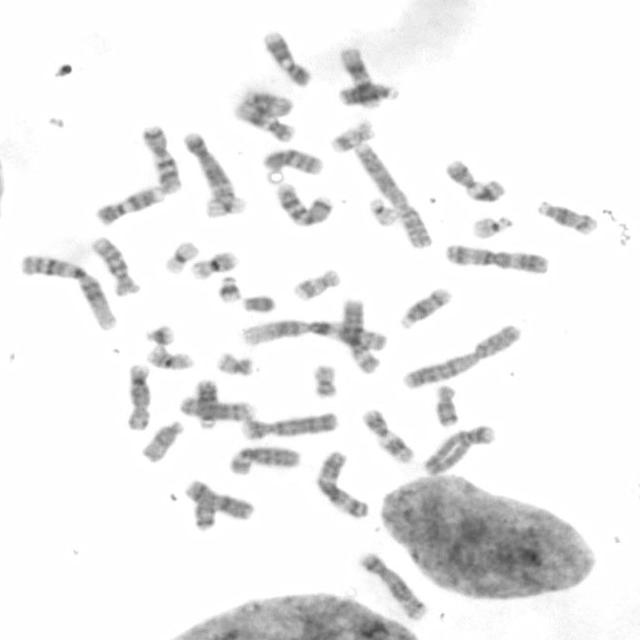A1: (17, 250, 120, 330), (236, 316, 390, 352)
A2: (349, 138, 434, 252), (397, 319, 525, 392)
A3: (311, 447, 371, 520), (442, 240, 550, 276)
B4: (419, 422, 497, 477), (239, 408, 340, 442)
B5: (178, 126, 244, 212), (356, 550, 429, 620)
C10: (88, 233, 142, 297), (258, 144, 326, 177)
C11: (357, 405, 417, 465), (440, 155, 508, 205)
C12: (334, 42, 381, 110), (230, 97, 297, 144)
C6: (336, 294, 384, 376), (225, 442, 303, 476)
C7: (138, 122, 182, 195), (272, 179, 335, 228)
C8: (176, 392, 257, 423), (124, 361, 152, 431)
C9: (259, 26, 314, 89), (92, 181, 167, 227)
D13: (334, 80, 400, 108), (191, 375, 220, 431)
D14: (395, 284, 454, 330), (532, 197, 599, 236)
D15: (232, 85, 296, 121), (137, 417, 185, 464)
E16: (187, 245, 241, 281), (143, 343, 195, 372)
E17: (288, 264, 342, 302), (326, 118, 375, 154)
E18: (183, 478, 219, 532), (430, 381, 461, 428)
F19: (160, 238, 200, 275), (201, 191, 248, 219)
F20: (308, 360, 340, 399), (211, 352, 257, 376)
G21: (212, 272, 243, 304), (140, 321, 176, 346)
G22: (468, 212, 514, 240), (364, 194, 400, 228)
X: (180, 476, 256, 522)
Y: (239, 292, 277, 314)
